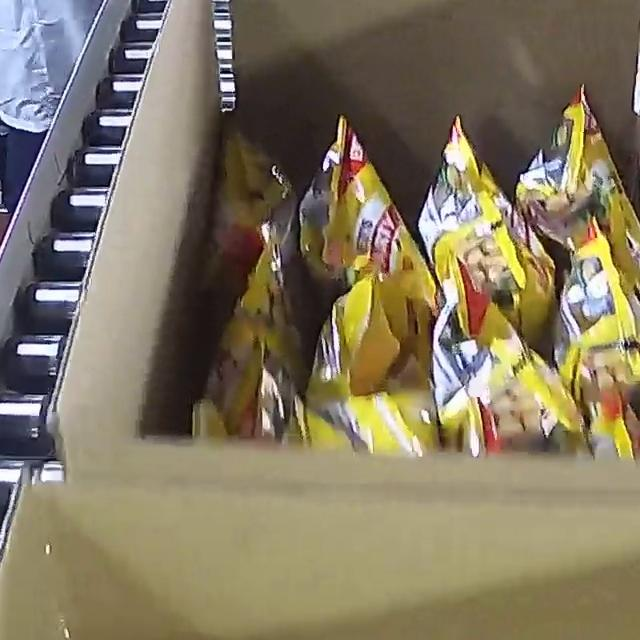salted: (225, 90, 640, 460)
